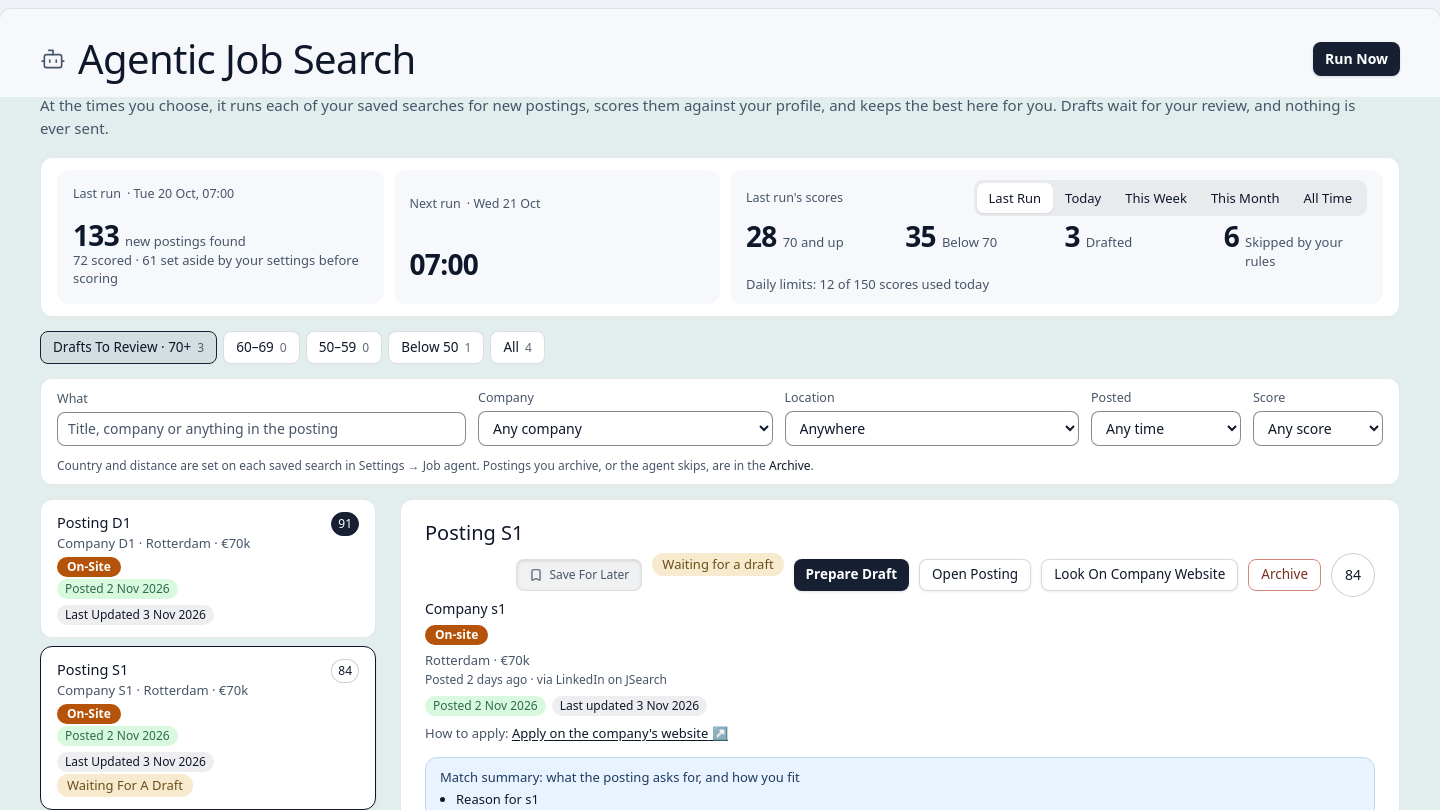
Test: AgentScreen (E16-6) › saves the job for later from its big card, and keeps it in the list
Click the button "Save for later" at [579, 575], box [516, 559, 642, 591]
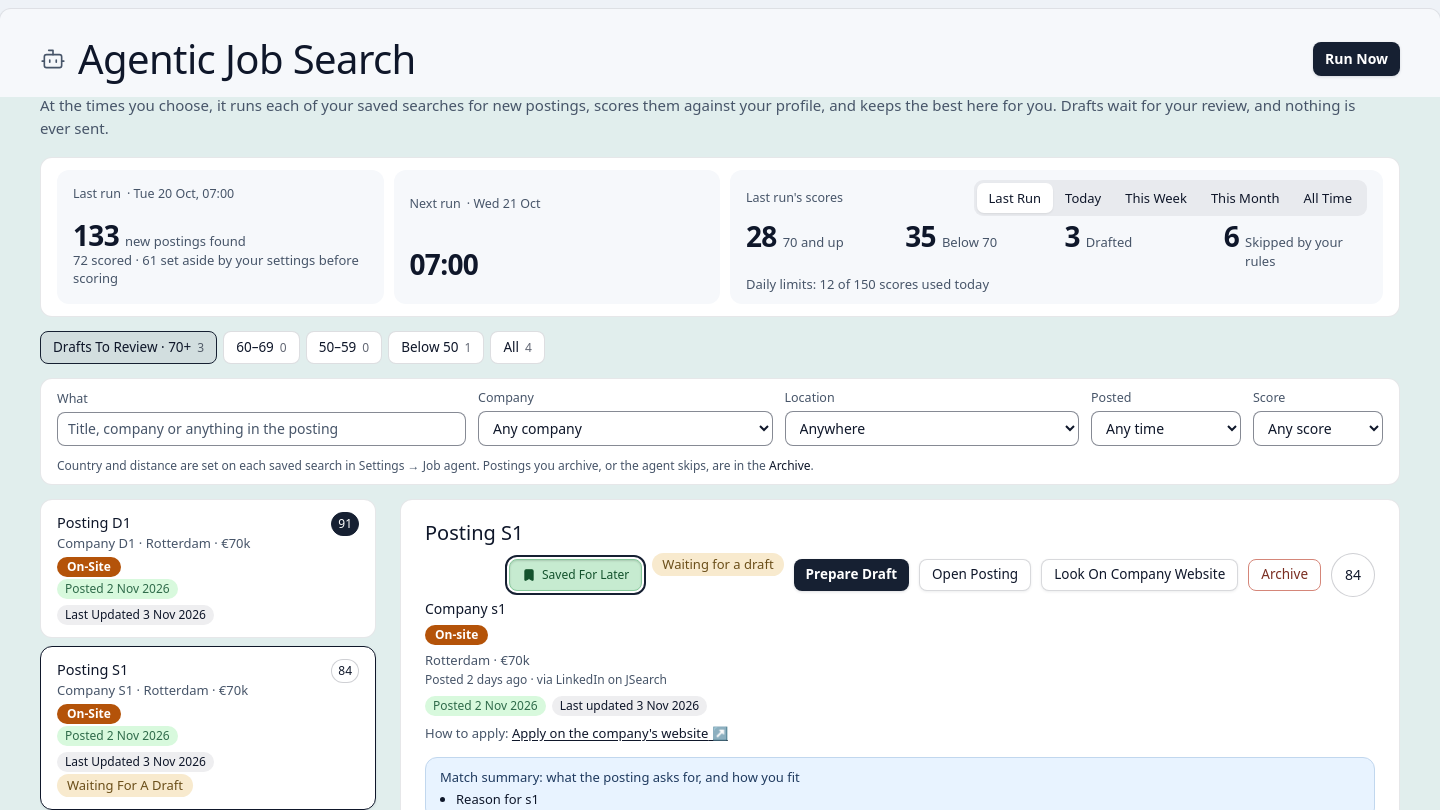
Now the button "Saved for later" is pressed, box [509, 559, 642, 591]
